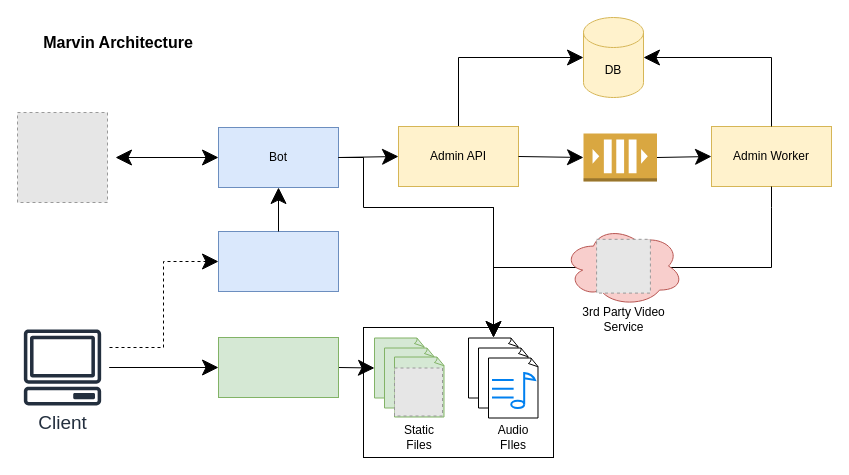
Image size: 849x475. Some labels were removed from this diagram. Grey dashed boxes stand in for pictures. The box of each missing label's shape, as (x1, y1, x2, y2) in pixels:
Bot API: (218, 230, 338, 292)
Nginx: (218, 336, 338, 398)
Rabbit MQ: (582, 132, 657, 182)
